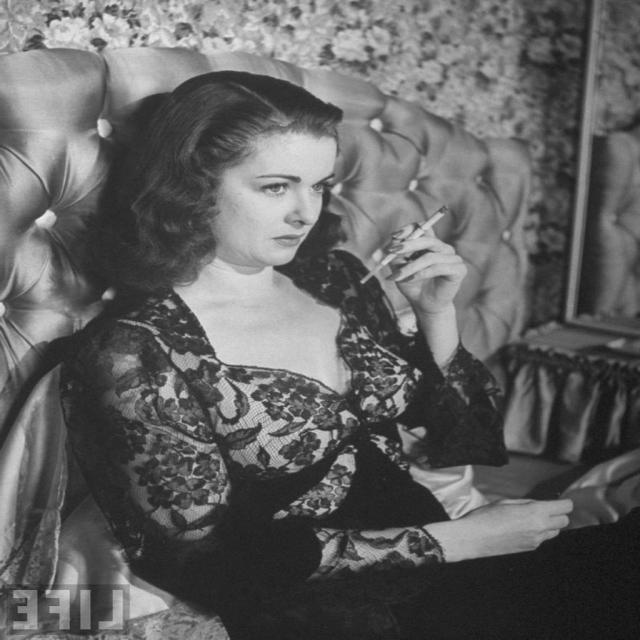smoking: (121, 68, 469, 322)
